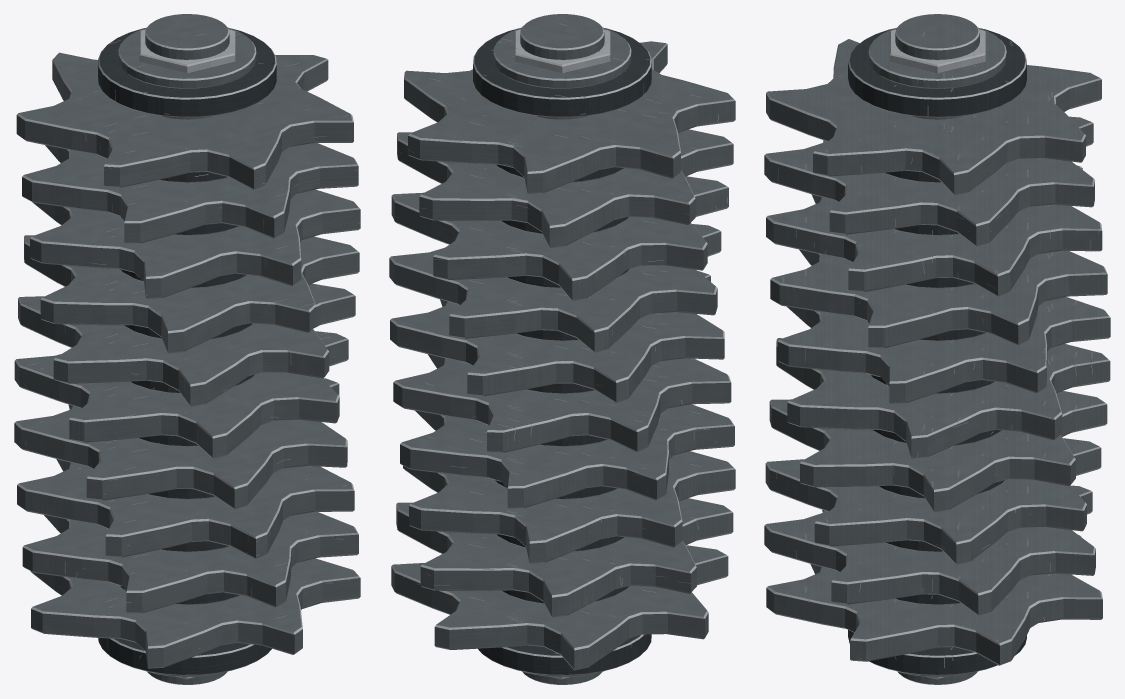
The model's file is scrapper_roller.glb.
The picture shows the model from 3 angles, left to right: view 1: azimuth 30°, elevation 25°; view 2: azimuth 150°, elevation 25°; view 3: azimuth 270°, elevation 25°; orthographic projection.
Visible parts, largest first — view 1: scrapper_roller; view 2: scrapper_roller; view 3: scrapper_roller.
Boxes of the visible parts, x1,y1,x2,y2 form: scrapper_roller: (14,14,360,684); scrapper_roller: (389,14,735,684); scrapper_roller: (764,14,1110,684).
Size of the model in its own units: 0.4758 by 0.965 by 0.4756.
3 materials, 3 textured.
